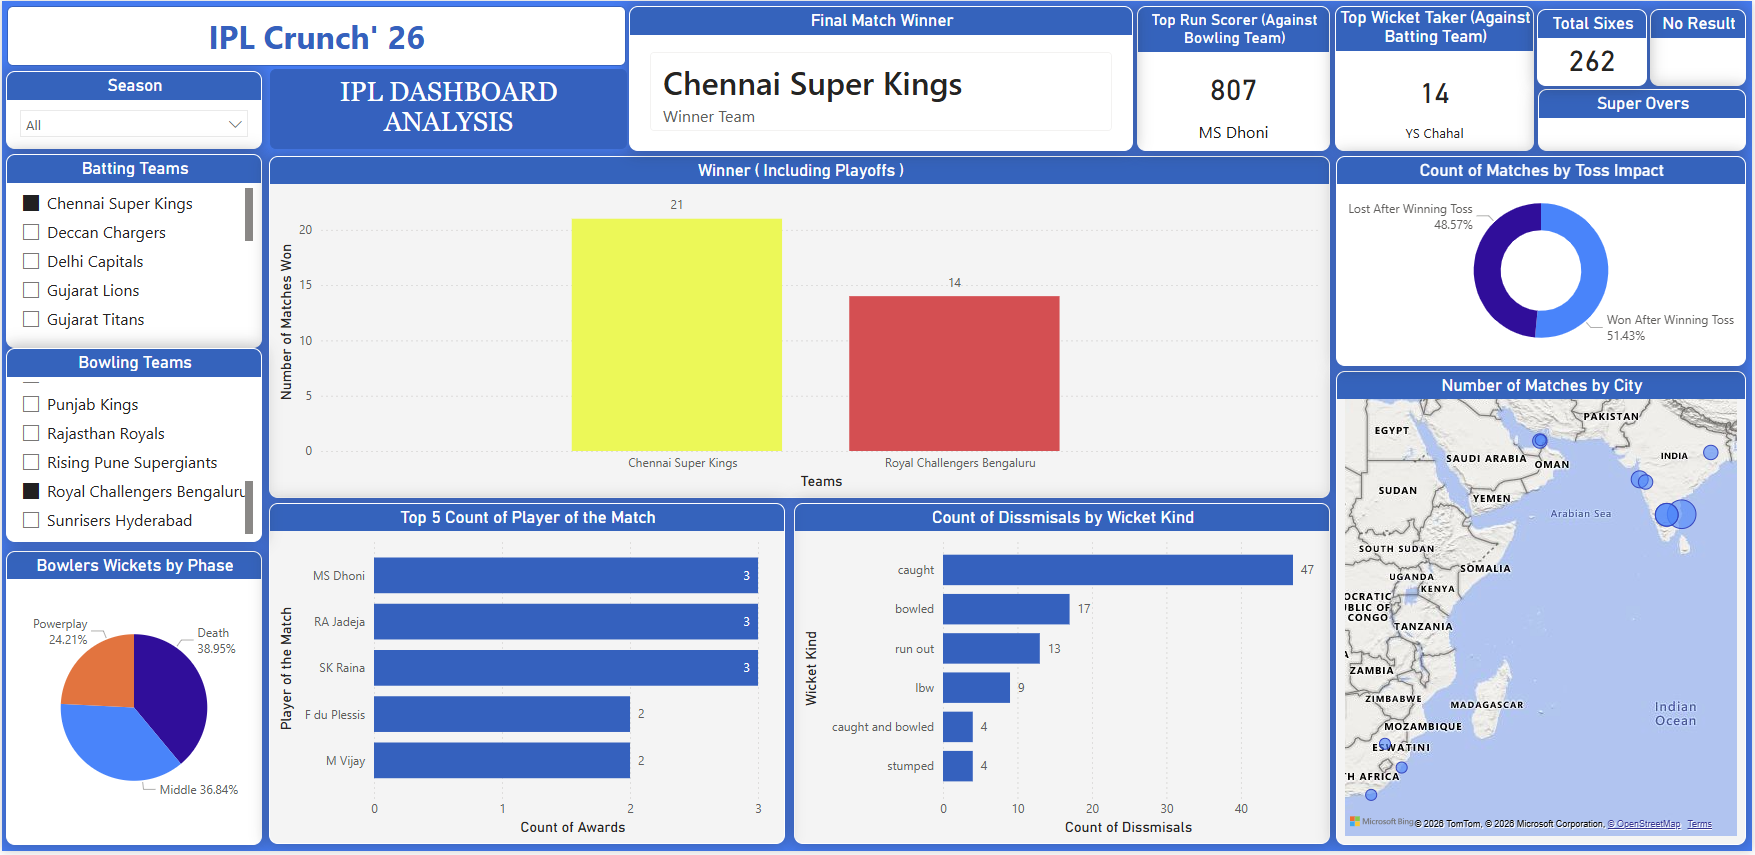

The page's visual inventory and layout, read from the dashboard file:
{"tool":"powerbi","page":{"name":"Page 1","canvas":[1750,850],"ordinal":0},"visuals":[{"type":"slicer","title":"Season","fields":{"Values":["Final Matches Dates.Seasons"]},"box":[4,70,256,78],"z":0},{"type":"slicer","title":"Teams","fields":{"Values":["Venue Data.Teams"]},"box":[4,154,256,394],"z":1000},{"type":"columnChart","title":"Winner ( Including Playoffs )","fields":{"Category":["ipl_cleaned.winner"],"Y":["Count(IPL Matches.match_id)"]},"box":[266.7,155,1061.7,342],"z":2000},{"type":"kpi","title":"No Result","fields":{"TrendLine":["ipl_cleaned.winner"],"Indicator":["Count(ipl_cleaned.date (bins))"]},"box":[1648,8,96,77],"z":3000},{"type":"kpi","title":"Top Run Scorer","fields":{"Indicator":["IPL Matches.Total Runs"],"TrendLine":["IPL Matches.batter"]},"box":[1135,5,193,145],"z":4000},{"type":"kpi","title":"Top Wicket Taker","fields":{"TrendLine":["IPL Matches.bowler"]},"box":[1333,5,199,145],"z":5000},{"type":"pieChart","fields":{"Category":["ipl_cleaned.phase"],"Y":["Sum(IPL Matches.is_bowler_wicket)"]},"box":[4,556,256,288],"z":6000},{"type":"barChart","fields":{"Category":["ipl_cleaned.wicket_kind"],"Y":["Count(ipl_cleaned.wicket_player_out)"]},"box":[791.7,501.7,536.7,341.7],"z":7000},{"type":"kpi","title":"Super Overs","fields":{"Indicator":["IPL Matches.Total Super Overs"],"TrendLine":["IPL Matches.is_super_over"]},"box":[1536,88,208,62],"z":8000},{"type":"barChart","title":"Top 5 Count of Player of the Match","fields":{"Y":["Count(ipl_cleaned.date (bins))"],"Category":["ipl_cleaned.player_of_match"]},"box":[266.7,501.7,516.7,341.7],"z":9000},{"type":"map","title":"Number of Matches by City","fields":{"Category":["ipl_cleaned.city"],"Size":["Count(ipl_cleaned.date (bins))"]},"box":[1334,370,410,474],"z":10000},{"type":"cardVisual","title":"Final Match Winner","fields":{"Data":["IPL Matches.Winner_Team"]},"box":[627,5,504,145],"z":11000},{"type":"donutChart","fields":{"Category":["IPL Matches.Toss_Impact"],"Y":["Count(IPL Matches.match_id)"]},"box":[1334,155,410,210],"z":12000},{"type":"textbox","box":[5,5,619,60],"z":13000},{"type":"textbox","box":[267.5,67.5,357.5,80],"z":14000},{"type":"kpi","title":"Total Sixes","fields":{"Indicator":["IPL Matches.Total Sixes"],"TrendLine":["IPL Matches.runs_batter"]},"box":[1535,8,110,77],"z":15000}]}

Visuals, with their boxes in screenshot pixels (x1, y1, x2, y2), scaled from the page's 1750x850 canvas onto the 1755x855 screenshot:
"Season" slicer: [4, 70, 261, 149]
"Teams" slicer: [4, 155, 261, 551]
"Winner ( Including Playoffs )" columnChart: [267, 156, 1332, 500]
"No Result" kpi: [1653, 8, 1749, 86]
"Top Run Scorer" kpi: [1138, 5, 1332, 151]
"Top Wicket Taker" kpi: [1337, 5, 1536, 151]
pieChart - ipl_cleaned.phase x Sum(IPL Matches.is_bowler_wicket): [4, 559, 261, 849]
barChart - ipl_cleaned.wicket_kind x Count(ipl_cleaned.wicket_player_out): [794, 505, 1332, 848]
"Super Overs" kpi: [1540, 89, 1749, 151]
"Top 5 Count of Player of the Match" barChart: [267, 505, 786, 848]
"Number of Matches by City" map: [1338, 372, 1749, 849]
"Final Match Winner" cardVisual: [629, 5, 1134, 151]
donutChart - IPL Matches.Toss_Impact x Count(IPL Matches.match_id): [1338, 156, 1749, 367]
textbox: [5, 5, 626, 65]
textbox: [268, 68, 627, 148]
"Total Sixes" kpi: [1539, 8, 1650, 86]
